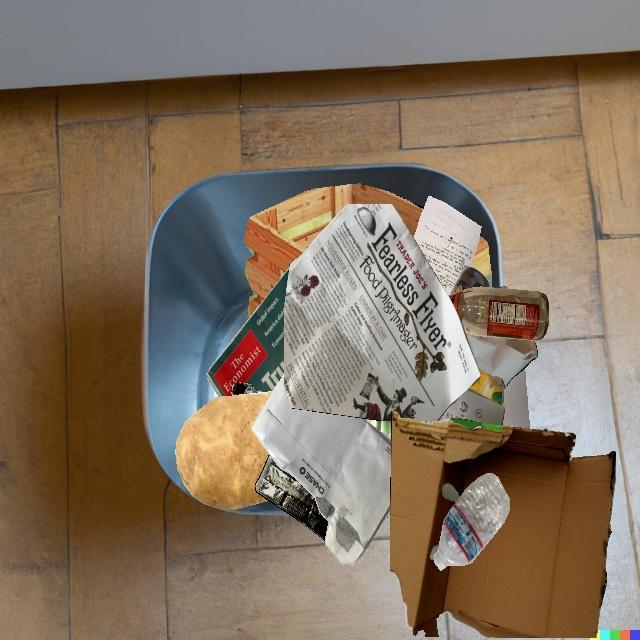biowaste: (175, 391, 273, 510)
cardboard: (390, 411, 616, 638), (391, 385, 504, 431)
combustible waste: (244, 183, 424, 318)
glass: (448, 287, 549, 341), (449, 266, 491, 295), (231, 382, 259, 395)
paper: (284, 204, 480, 421), (251, 374, 391, 567), (207, 268, 289, 397), (414, 196, 481, 296), (466, 334, 538, 389), (419, 388, 505, 426), (503, 368, 529, 428), (387, 509, 390, 518)
plastic: (434, 473, 509, 571), (255, 454, 328, 541)
